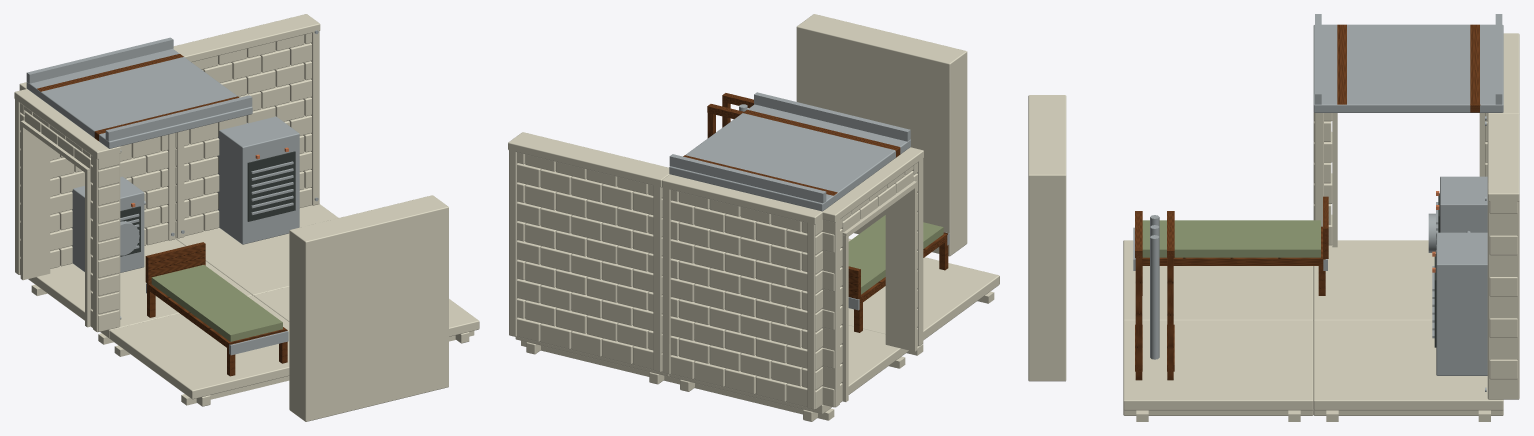
Rendered from bunker-shelter-construction-assembled-su-61d10772-starter-scene__23398.glb.
3 renders of one model, left to right at view 1: azimuth 30°, elevation 25°; view 2: azimuth 150°, elevation 25°; view 3: azimuth 270°, elevation 25°, orthographic. The views are drawn at different scales.
Parts seen in each view (by area): view 1: 012-entry-blast-baffle/0, 005-modular-survival-base-builder--wall-rubble-masonry/0, 006-shelter-wide-access/0, 007-flat-ceiling/0, 001-shelter-floor-slab/0, 008-air-filter-cabinet/0, 004-modular-survival-base-builder--wall-rubble-masonry/0, 011-bunk-single-frame/1, 002-shelter-floor-slab/0, 000-shelter-floor-slab/0, 011-bunk-single-frame/0, 009-hand-crank-blower/0 (+4 smaller); view 2: 004-modular-survival-base-builder--wall-rubble-masonry/0, 005-modular-survival-base-builder--wall-rubble-masonry/0, 012-entry-blast-baffle/0, 007-flat-ceiling/0, 006-shelter-wide-access/0, 001-shelter-floor-slab/0, 000-shelter-floor-slab/0, 011-bunk-single-frame/1, 002-shelter-floor-slab/0, 011-bunk-single-frame/0, 007-flat-ceiling/1, 010-pipe-service-rack/0; view 3: 003-shelter-floor-slab/0, 007-flat-ceiling/0, 002-shelter-floor-slab/0, 012-entry-blast-baffle/0, 001-shelter-floor-slab/0, 005-modular-survival-base-builder--wall-rubble-masonry/0, 000-shelter-floor-slab/0, 008-air-filter-cabinet/0, 011-bunk-single-frame/1, 006-shelter-wide-access/0, 009-hand-crank-blower/0, 010-pipe-service-rack/0 (+4 smaller).
Boxes of the visible parts, left/top/right/bottom form: 012-entry-blast-baffle/0: left=289, top=195, right=448, bottom=421; 005-modular-survival-base-builder--wall-rubble-masonry/0: left=173, top=14, right=320, bottom=238; 006-shelter-wide-access/0: left=14, top=89, right=120, bottom=332; 007-flat-ceiling/0: left=26, top=37, right=252, bottom=148; 001-shelter-floor-slab/0: left=109, top=295, right=289, bottom=406; 008-air-filter-cabinet/0: left=218, top=116, right=299, bottom=244; 004-modular-survival-base-builder--wall-rubble-masonry/0: left=19, top=82, right=175, bottom=268; 011-bunk-single-frame/1: left=151, top=265, right=282, bottom=341; 002-shelter-floor-slab/0: left=175, top=204, right=338, bottom=295; 000-shelter-floor-slab/0: left=28, top=239, right=252, bottom=344; 011-bunk-single-frame/0: left=145, top=242, right=287, bottom=376; 009-hand-crank-blower/0: left=71, top=176, right=145, bottom=272; 004-modular-survival-base-builder--wall-rubble-masonry/0: left=662, top=174, right=822, bottom=409; 005-modular-survival-base-builder--wall-rubble-masonry/0: left=508, top=132, right=669, bottom=372; 012-entry-blast-baffle/0: left=796, top=14, right=967, bottom=256; 007-flat-ceiling/0: left=669, top=92, right=910, bottom=211; 006-shelter-wide-access/0: left=822, top=147, right=923, bottom=407; 001-shelter-floor-slab/0: left=848, top=238, right=999, bottom=355; 000-shelter-floor-slab/0: left=669, top=325, right=908, bottom=421; 011-bunk-single-frame/1: left=848, top=215, right=943, bottom=294; 002-shelter-floor-slab/0: left=515, top=336, right=674, bottom=384; 011-bunk-single-frame/0: left=848, top=232, right=948, bottom=332; 007-flat-ceiling/1: left=683, top=110, right=900, bottom=195; 010-pipe-service-rack/0: left=707, top=93, right=753, bottom=138; 003-shelter-floor-slab/0: left=1123, top=320, right=1313, bottom=421; 007-flat-ceiling/0: left=1313, top=14, right=1503, bottom=112; 002-shelter-floor-slab/0: left=1313, top=320, right=1503, bottom=421; 012-entry-blast-baffle/0: left=1028, top=95, right=1066, bottom=381; 001-shelter-floor-slab/0: left=1123, top=240, right=1313, bottom=320; 005-modular-survival-base-builder--wall-rubble-masonry/0: left=1487, top=113, right=1519, bottom=399; 000-shelter-floor-slab/0: left=1313, top=240, right=1435, bottom=320; 008-air-filter-cabinet/0: left=1432, top=232, right=1487, bottom=375; 011-bunk-single-frame/1: left=1142, top=220, right=1320, bottom=257; 006-shelter-wide-access/0: left=1313, top=112, right=1487, bottom=247; 009-hand-crank-blower/0: left=1428, top=176, right=1487, bottom=253; 010-pipe-service-rack/0: left=1135, top=211, right=1174, bottom=380.
Size of the model in its own units: 4.19 by 2.87 by 5.17.
Materials: 6 (1 with a texture image).
